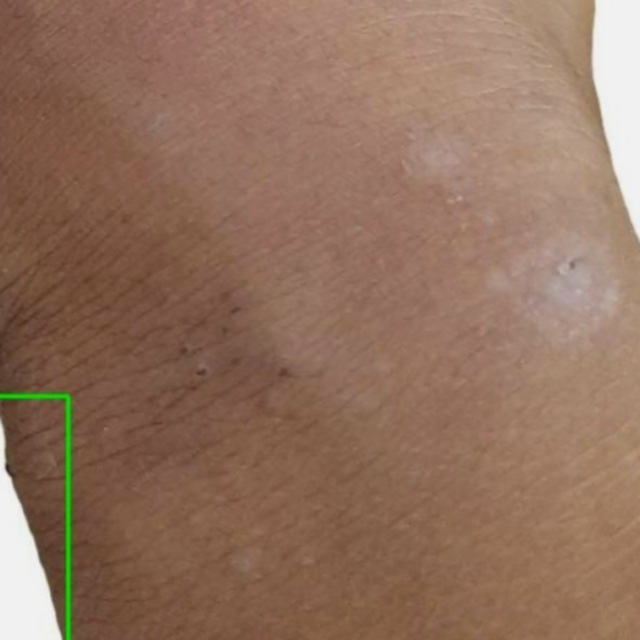Scabies: (0, 396, 68, 639)
